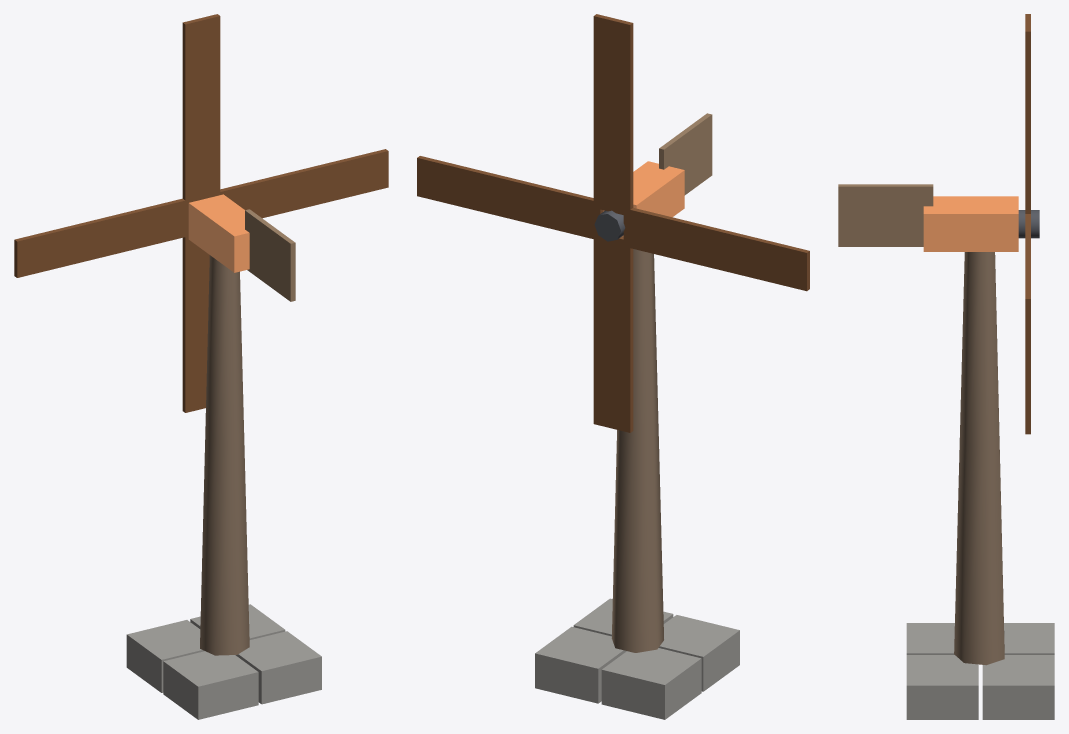
Rendered from build_windmill.glb.
The picture shows the model from 3 angles, left to right: view 1: azimuth 30°, elevation 25°; view 2: azimuth 150°, elevation 25°; view 3: azimuth 270°, elevation 25°; orthographic projection. The views are drawn at different scales.
Visible parts, largest first — view 1: Baked, _MeshInstance3D_246, _MeshInstance3D_249, _MeshInstance3D_247, _MeshInstance3D_248; view 2: Baked, _MeshInstance3D_246, _MeshInstance3D_248, _MeshInstance3D_249, _MeshInstance3D_247, _MeshInstance3D_245; view 3: Baked, _MeshInstance3D_246, _MeshInstance3D_247, _MeshInstance3D_248, _MeshInstance3D_245.
Boxes of the visible parts, x1,y1,x2,y2 form: Baked: (126,194,321,719); _MeshInstance3D_246: (182,14,220,206); _MeshInstance3D_249: (14,198,191,277); _MeshInstance3D_247: (220,149,388,218); _MeshInstance3D_248: (182,236,209,412); Baked: (535,113,739,719); _MeshInstance3D_246: (593,14,633,216); _MeshInstance3D_248: (593,233,633,432); _MeshInstance3D_249: (623,208,809,291); _MeshInstance3D_247: (417,156,603,240); _MeshInstance3D_245: (594,210,625,241); Baked: (838,184,1054,719); _MeshInstance3D_246: (1025,14,1030,213); _MeshInstance3D_247: (1025,214,1030,336); _MeshInstance3D_248: (1025,337,1030,434); _MeshInstance3D_245: (1018,210,1039,238).
Size of the model in its own units: 2.34 by 3.87 by 1.14.
